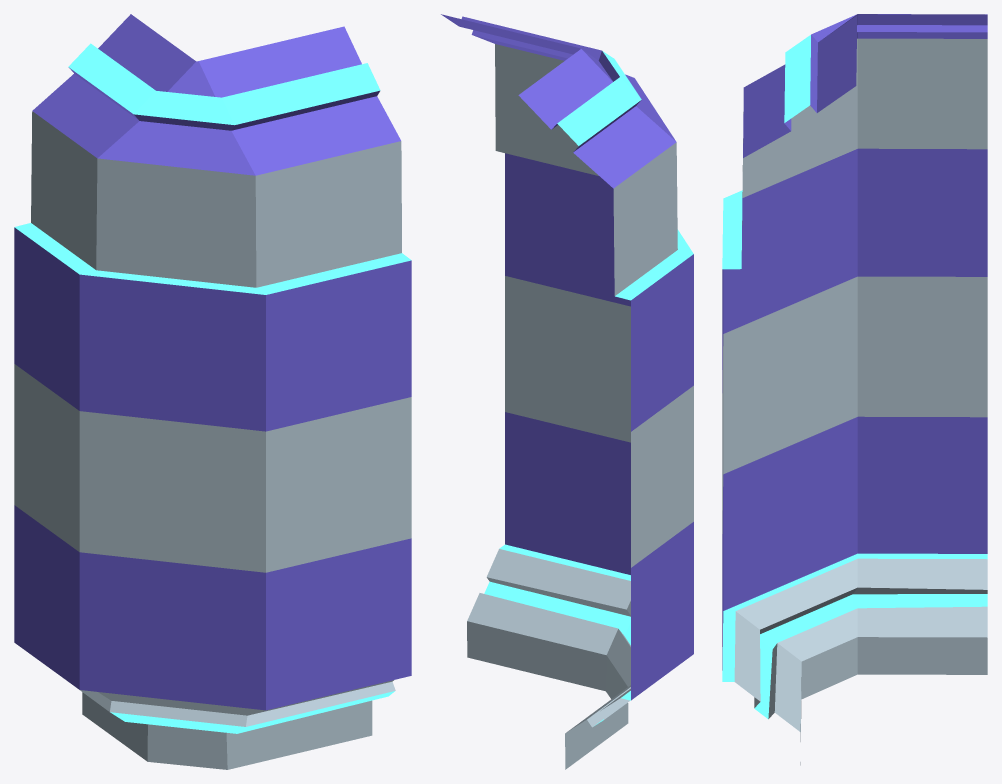
Rendered from InnerCorner_A.fbx.
The picture shows the model from 3 angles, left to right: view 1: azimuth 30°, elevation 25°; view 2: azimuth 150°, elevation 25°; view 3: azimuth 270°, elevation 25°; orthographic projection. The views are drawn at different scales.
Visible parts, largest first — view 1: CornerWall_A; view 2: CornerWall_A; view 3: CornerWall_A.
Boxes of the visible parts, x1,y1,x2,y2 form: CornerWall_A: (14,14,411,769); CornerWall_A: (441,14,693,769); CornerWall_A: (722,14,987,765).
Size of the model in its own units: 277 by 691 by 243.
